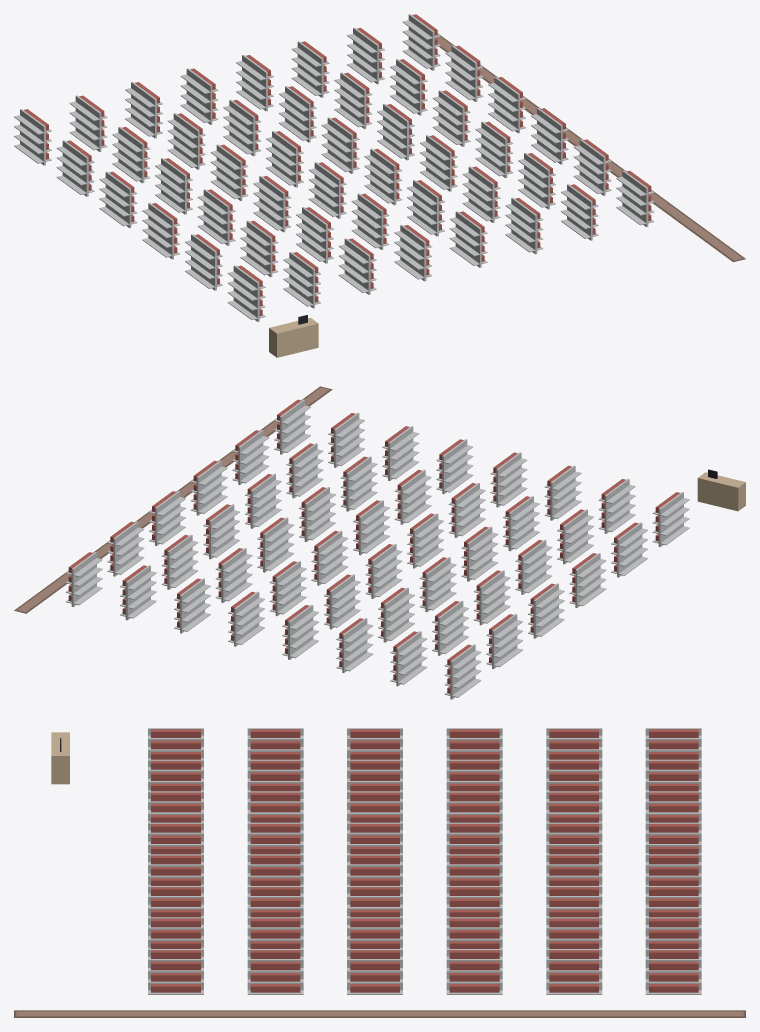
Rendered from fine-s0.glb.
The picture shows the model from 3 angles, top to bottom: view 1: azimuth 30°, elevation 25°; view 2: azimuth 150°, elevation 25°; view 3: azimuth 270°, elevation 25°; orthographic projection. The views are drawn at different scales.
Visible parts, largest first — view 1: soft-s0, shop-counter.000, shelf.019, shelf.023, shelf.027, shelf.031, shelf.034, shelf.042, shelf.043, shelf.047, shelf.002, shelf.005 (+38 smaller); view 2: soft-s0, shop-counter.000, shelf.008, shelf.006, shelf.011, shelf.022, shelf.023, shelf.028, shelf.029, shelf.031, shelf.034, shelf.040 (+38 smaller); view 3: soft-s0, shelf.042, shelf.043, shelf.044, shelf.046, shelf.045, shelf.047, shelf.006, shelf.007, shelf.008, shelf.010, shelf.018 (+38 smaller).
Part boxes in pixels (<box>): soft-s0: <box>436,33,745,262</box>; shop-counter.000: <box>269,315,318,357</box>; shelf.019: <box>223,99,261,156</box>; shelf.023: <box>394,225,432,281</box>; shelf.027: <box>364,148,402,205</box>; shelf.031: <box>334,72,372,128</box>; shelf.034: <box>462,166,500,222</box>; shelf.042: <box>402,14,440,70</box>; shelf.043: <box>445,45,483,101</box>; shelf.047: <box>616,170,654,227</box>; shelf.002: <box>99,171,137,228</box>; shelf.005: <box>227,265,265,321</box>; soft-s0: <box>14,386,332,613</box>; shop-counter.000: <box>697,469,745,511</box>; shelf.008: <box>473,570,510,625</box>; shelf.006: <box>390,631,427,686</box>; shelf.011: <box>598,478,635,533</box>; shelf.022: <box>448,483,485,537</box>; shelf.023: <box>490,452,527,507</box>; shelf.028: <box>394,469,431,524</box>; shelf.029: <box>436,439,473,494</box>; shelf.031: <box>215,548,252,602</box>; shelf.034: <box>340,456,377,511</box>; shelf.040: <box>286,443,323,498</box>; soft-s0: <box>14,1010,745,1017</box>; shelf.042: <box>645,949,701,994</box>; shelf.043: <box>546,949,602,994</box>; shelf.044: <box>446,949,502,994</box>; shelf.046: <box>247,949,303,994</box>; shelf.045: <box>347,949,402,994</box>; shelf.047: <box>148,949,203,994</box>; shelf.006: <box>645,759,701,791</box>; shelf.007: <box>546,759,602,791</box>; shelf.008: <box>446,759,502,791</box>; shelf.010: <box>247,759,303,791</box>; shelf.018: <box>645,822,701,854</box>.
Bounding box in the file's own units: 19.58 × 1.6 × 23.53.
